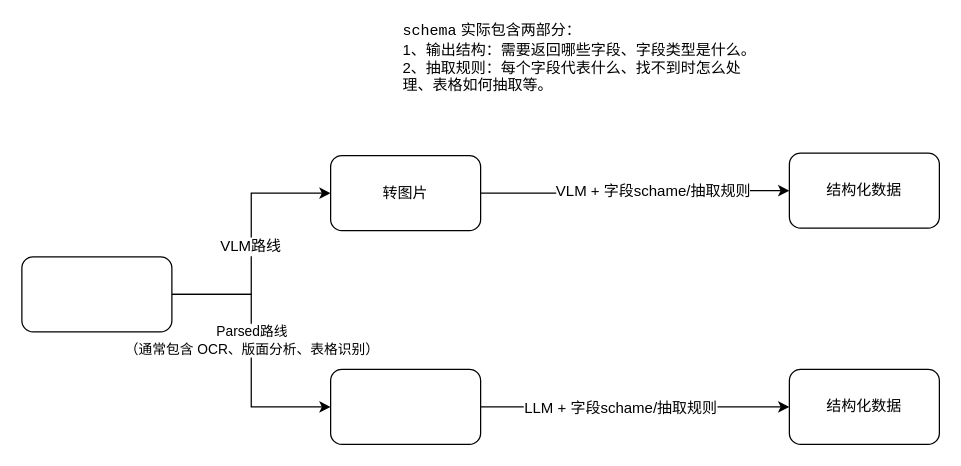
Image size: 961x466. Some labels were removed from this diagram. The centre of each missing label's shape, as x and y in pixels:
"文档" goes at pixel 96 294.
"转Markdown" goes at pixel 405 406.
